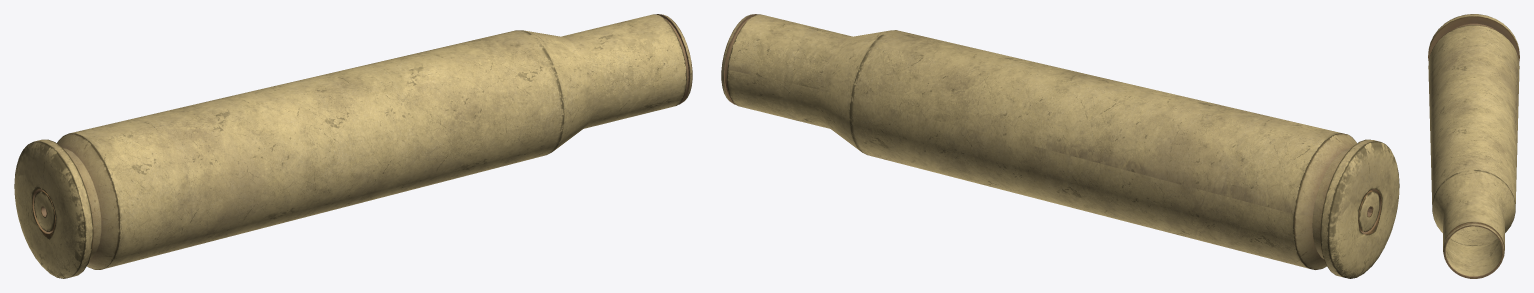
The model's file is 50_cal_shell.glb.
3 renders of one model, left to right at view 1: azimuth 30°, elevation 25°; view 2: azimuth 150°, elevation 25°; view 3: azimuth 270°, elevation 25°, orthographic. The views are drawn at different scales.
Visible parts, largest first — view 1: 50 mg shell; view 2: 50 mg shell; view 3: 50 mg shell.
Part boxes in pixels (x1,y1,x2,y2): 50 mg shell: [14, 14, 692, 278]; 50 mg shell: [721, 14, 1399, 278]; 50 mg shell: [1428, 14, 1519, 278].
Bounding box in the file's own units: 0.5549 × 0.1081 × 0.1082.
Materials: 1 (1 with a texture image).
